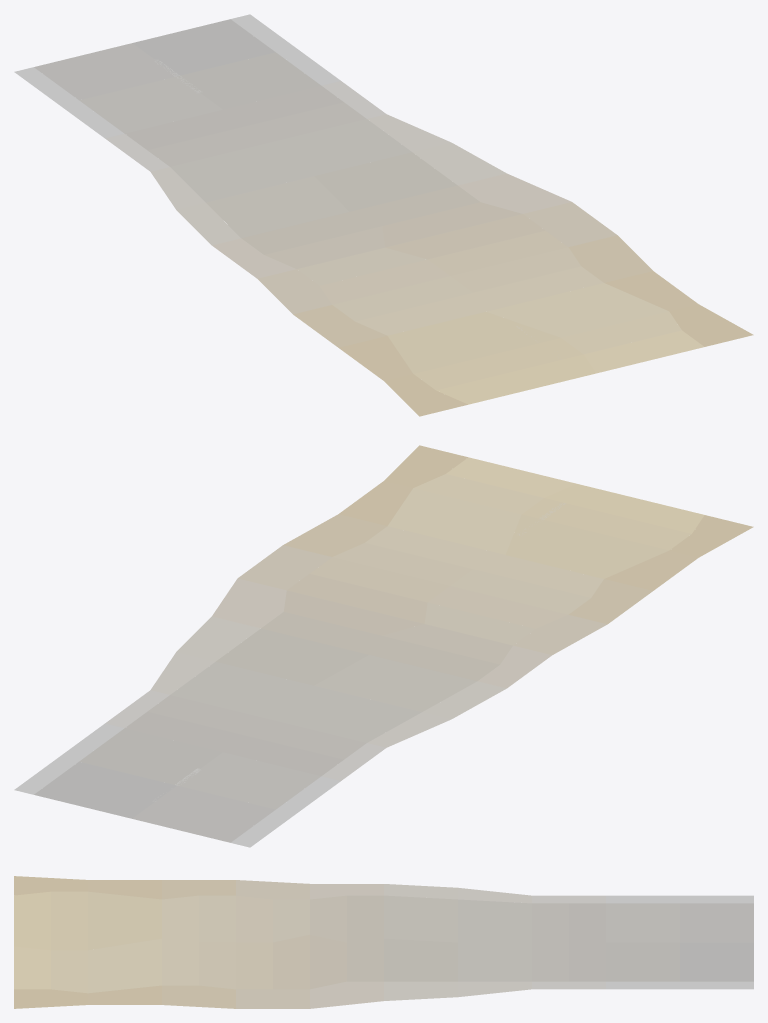
File: mixpd.glb
3 views of the same model, one above another, from view 1: azimuth 30°, elevation 25°; view 2: azimuth 150°, elevation 25°; view 3: azimuth 270°, elevation 25° (orthographic). The views are drawn at different scales.
Visible parts, largest first — view 1: mixpd; view 2: mixpd; view 3: mixpd.
Part boxes in pixels (bbox=[...]): mixpd: bbox=[14, 14, 753, 416]; mixpd: bbox=[14, 445, 753, 847]; mixpd: bbox=[14, 876, 753, 1008].
Bounding box in the file's own units: 23.8 × 0 × 56.
